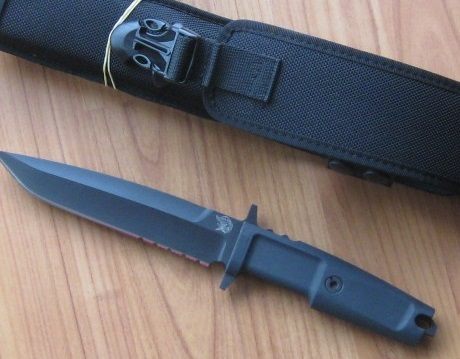knife: (1, 146, 271, 299)
